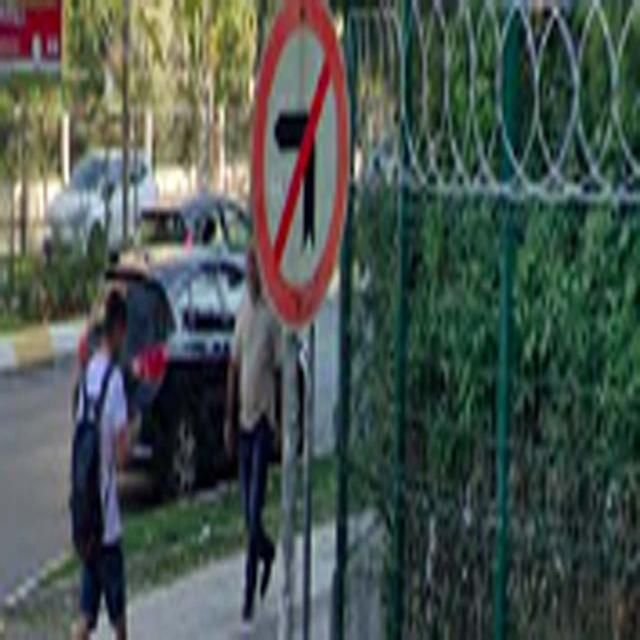soladonulmez: (254, 1, 348, 326)
